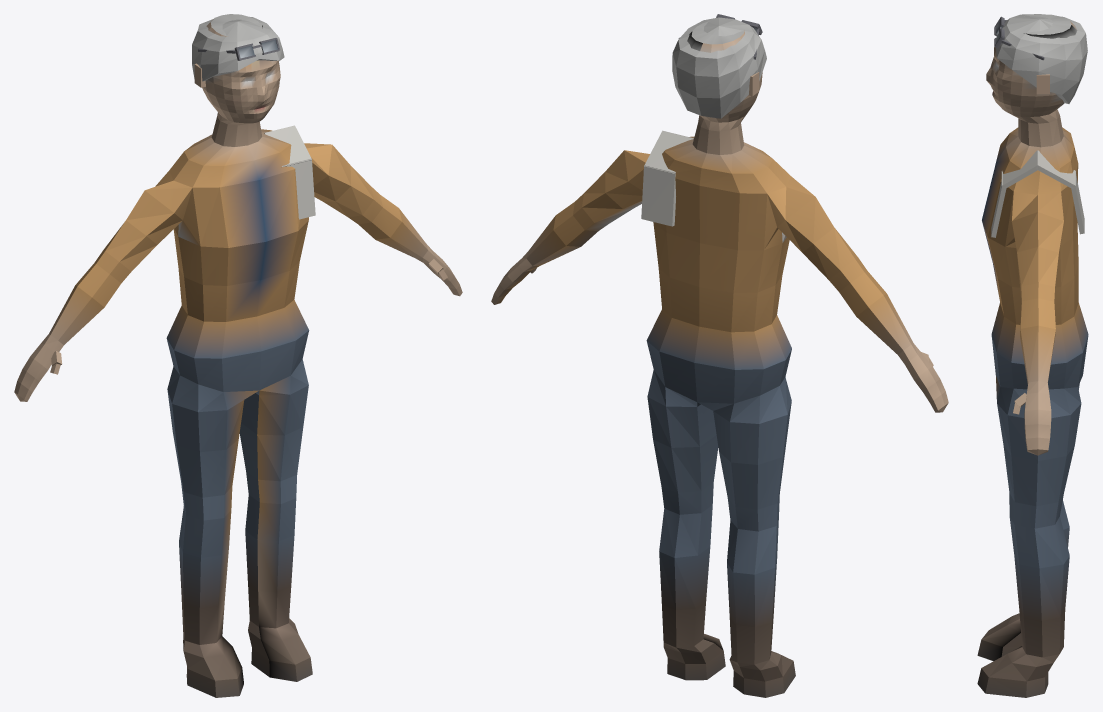
File: char__pessoa__zelia.glb
The picture shows the model from 3 angles, left to right: view 1: azimuth 30°, elevation 25°; view 2: azimuth 150°, elevation 25°; view 3: azimuth 270°, elevation 25°; orthographic projection. The views are drawn at different scales.
Parts seen in each view (by area): view 1: char__pessoa__zelia; view 2: char__pessoa__zelia; view 3: char__pessoa__zelia.
Boxes of the visible parts, x1,y1,x2,y2 form: char__pessoa__zelia: (14, 14, 462, 697); char__pessoa__zelia: (491, 14, 948, 697); char__pessoa__zelia: (977, 14, 1088, 697).
Size of the model in its own units: 1.16 by 1.63 by 0.2504.
